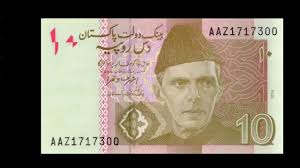10 rupee: (42, 19, 283, 153)
